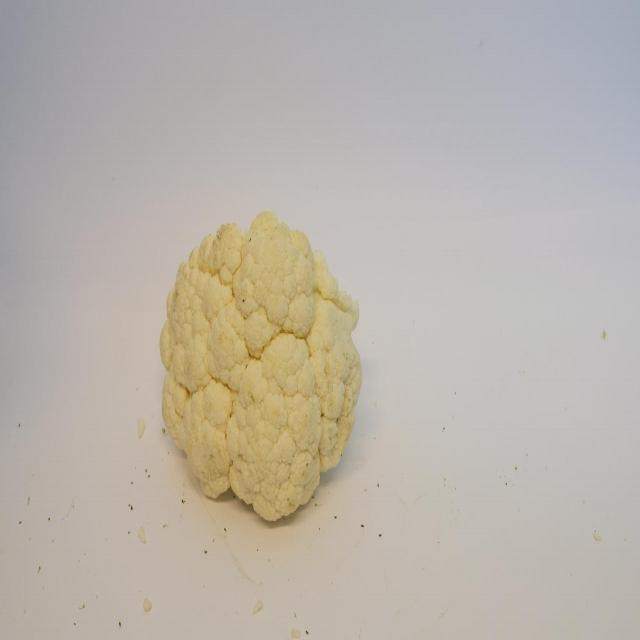cauliflower: (155, 204, 368, 527)
